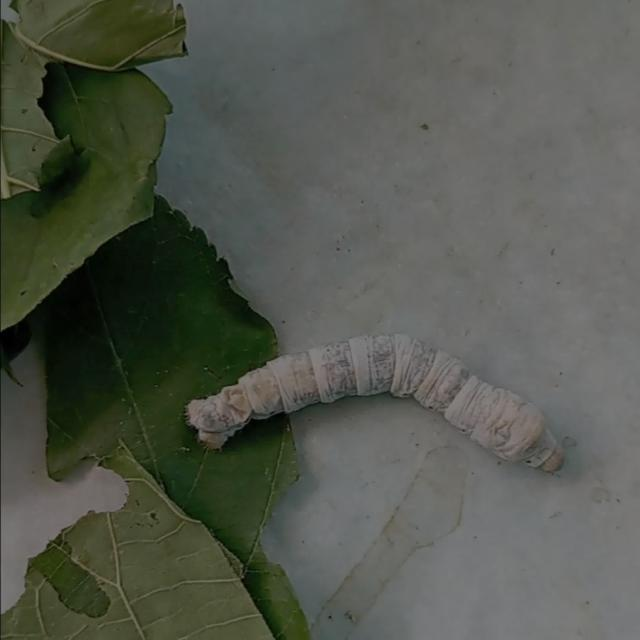Grasserie: (125, 297, 586, 501)
